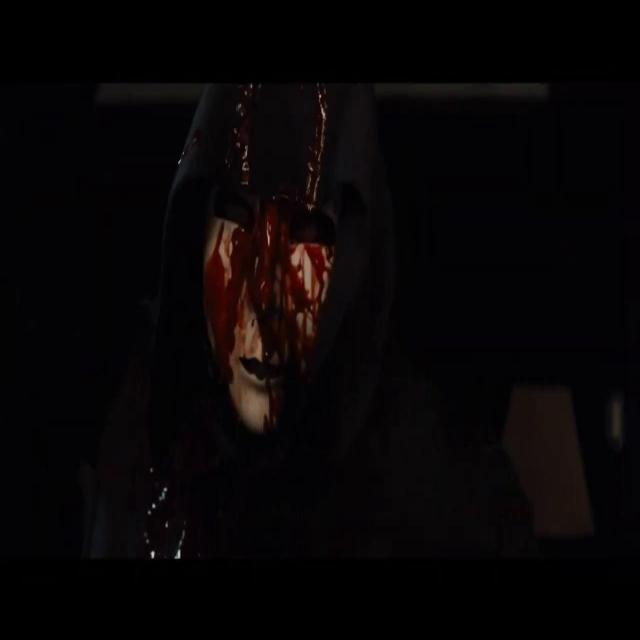flood: (204, 72, 348, 420)
